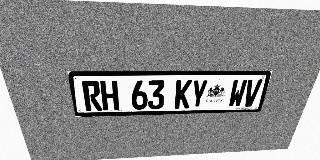3: (148, 80, 165, 109)
6: (131, 80, 148, 110)
H: (100, 81, 119, 111)
K: (174, 80, 192, 109)
R: (81, 81, 102, 111)
V: (242, 79, 263, 107)
W: (227, 79, 248, 107)
Y: (190, 80, 208, 108)
